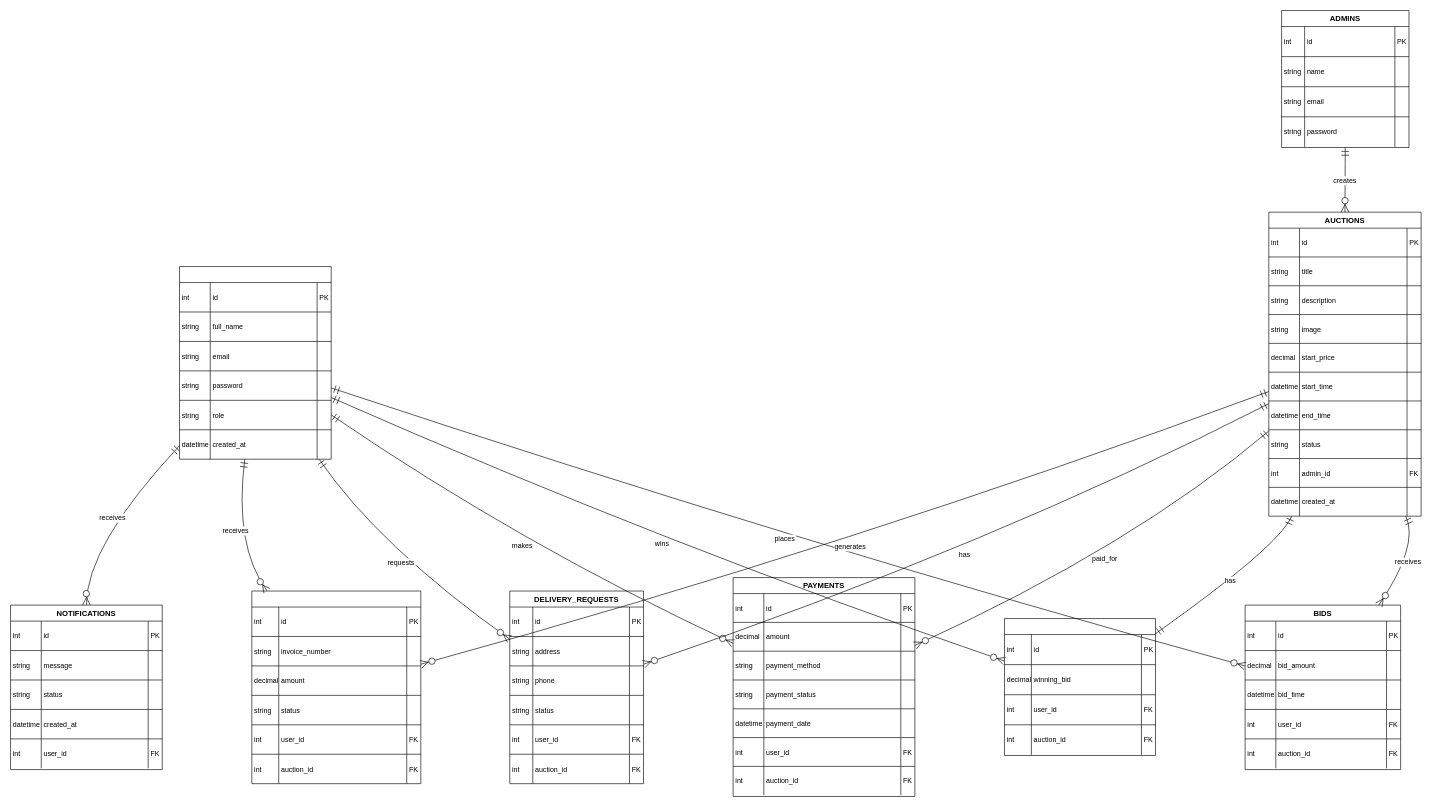
The diagram is 1433 pixels wide and 807 high, and some of its shapes have lost their labels. The shapes that lost their labels are listed below. From the top down, each one's box as (x1, y1, x2, y2) in pixels, then its label:
(179, 266, 331, 459): USERS
(251, 590, 421, 784): INVOICES
(1004, 618, 1156, 756): AUCTION_WINNERS
